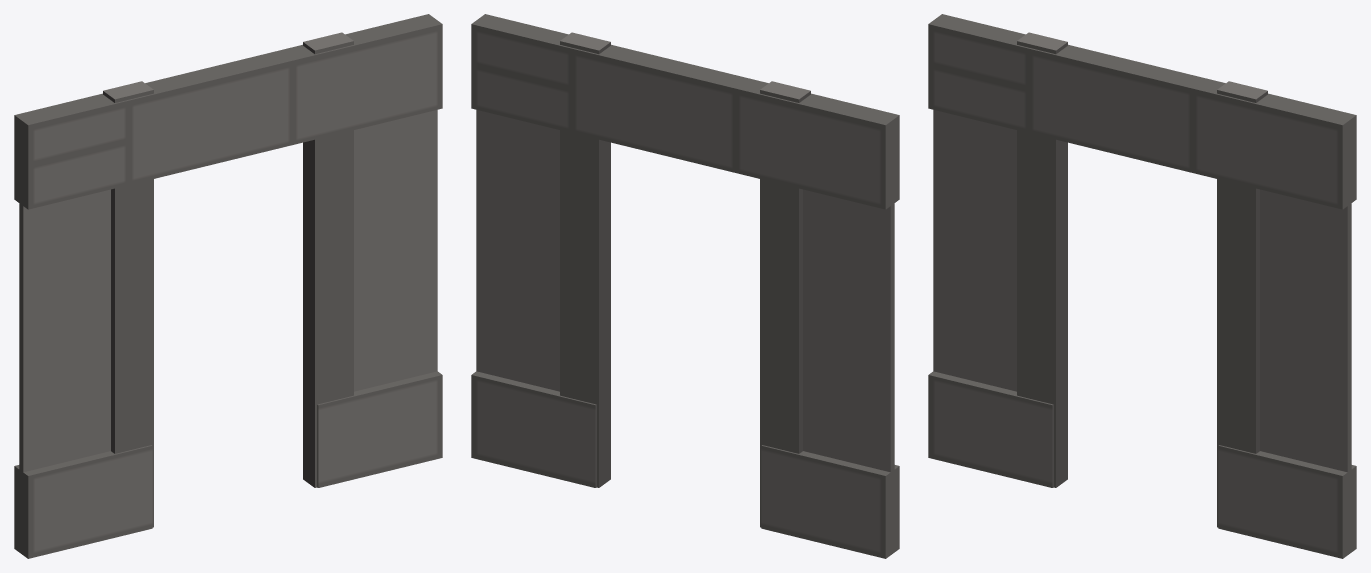
The model's file is SD_Env_Doorway_01.fbx.
3 views of the same model, side by side, from view 1: azimuth 30°, elevation 25°; view 2: azimuth 150°, elevation 25°; view 3: azimuth 330°, elevation 25° (orthographic).
Visible parts, largest first — view 1: SD_Env_Doorway_01; view 2: SD_Env_Doorway_01; view 3: SD_Env_Doorway_01.
Boxes of the visible parts, x1=… form: SD_Env_Doorway_01: x1=14, y1=14, x2=442, y2=558; SD_Env_Doorway_01: x1=471, y1=14, x2=899, y2=558; SD_Env_Doorway_01: x1=928, y1=14, x2=1356, y2=558.
Bounding box in the file's own units: 5 × 5.04 × 0.2887.
